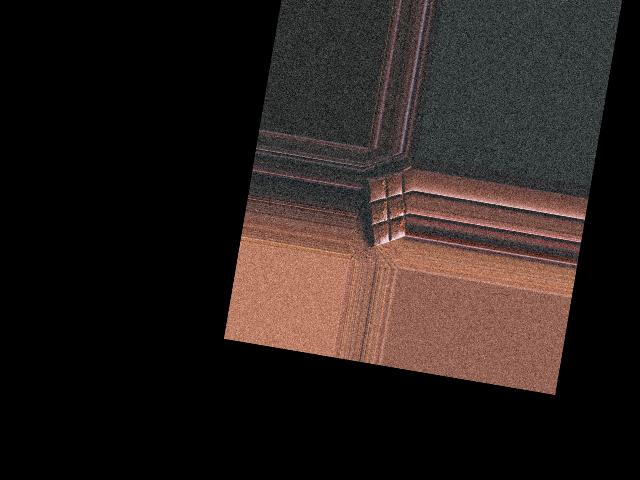chocolate: (354, 160, 415, 255)
